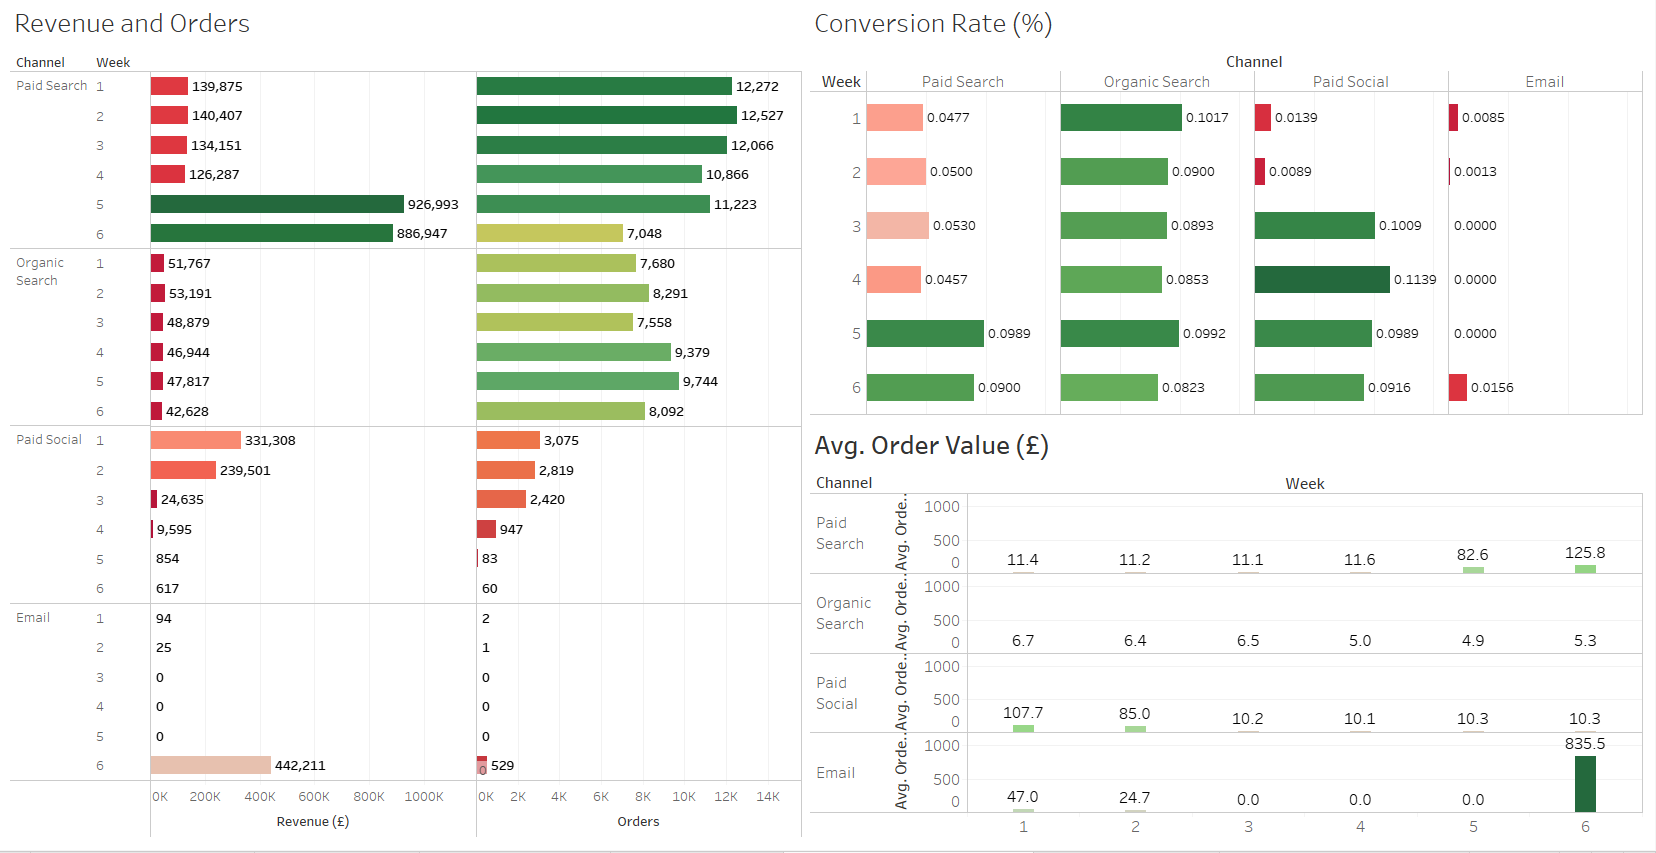

What the dashboard file says about the page in this screenshot:
{"tool":"tableau","page":{"name":"Revenues and No.of Sessions and Conversion Rates","canvas":[1000,1000],"units":"permille","ordinal":2},"visuals":[{"type":"worksheet","title":"Revenue and Orders","mark":"Bar","rows":["Channel","Week"],"cols":["Revenue (£)","Orders"],"box":[6.2,11.4,481.5,977.2]},{"type":"worksheet","title":"Conversion Rate (%)","mark":"Automatic","rows":["Week"],"cols":["Channel","Conversion Rate (Avg. Orders / Sessions)"],"box":[487.7,11.4,506.2,487.9]},{"type":"worksheet","title":"Order Value Comparison","mark":"Bar","rows":["Channel","Avg. Order Value (£)"],"cols":["Week"],"box":[487.7,499.3,506.2,489.3]}]}

Visuals, with their boxes on the dashboard's canvas, which has no fixed pixel size, in thousandths of its width and height (x1, y1, x2, y2). These are canvas units, not pixel positions in the 1656x853 screenshot, which may show the page scaled, cropped or inside an application window:
"Revenue and Orders" worksheet (Bar marks): [6, 11, 488, 989]
"Conversion Rate (%)" worksheet: [488, 11, 994, 499]
"Order Value Comparison" worksheet (Bar marks): [488, 499, 994, 989]
